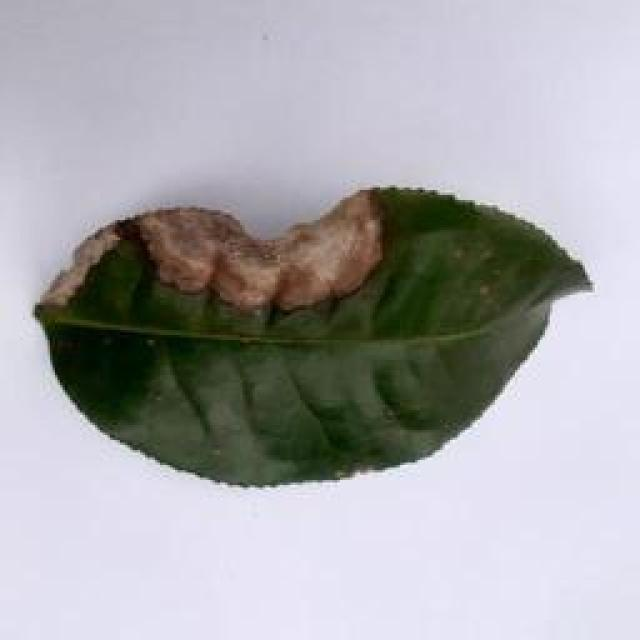Gray Blight: (5, 181, 593, 503)
